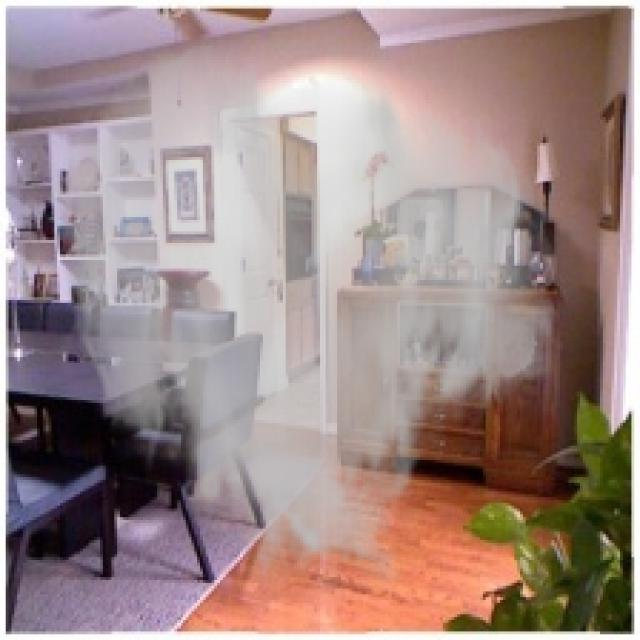smoke: (46, 40, 563, 594)
